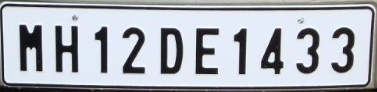character: (193, 25, 221, 76), (17, 21, 44, 72), (52, 22, 79, 73), (294, 25, 321, 75), (120, 25, 146, 75), (158, 25, 184, 75), (258, 25, 284, 75), (330, 25, 354, 73), (92, 24, 111, 74), (231, 27, 249, 76)
